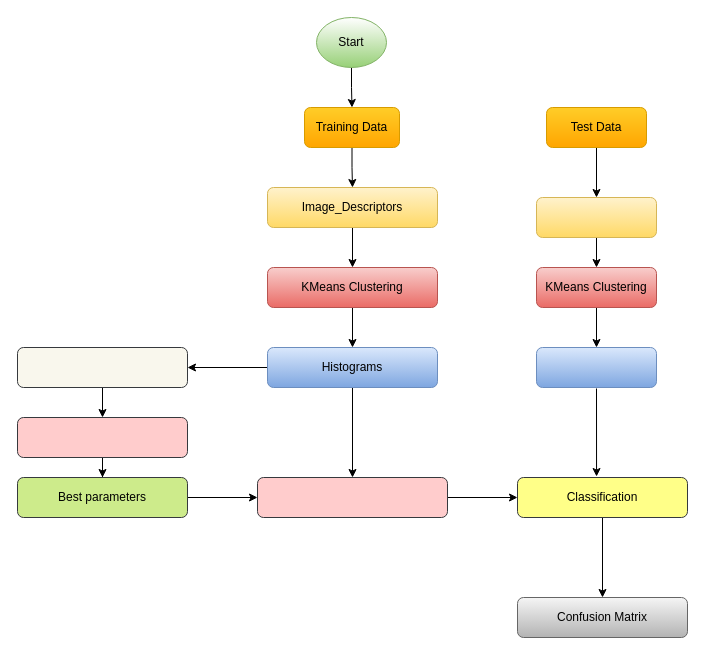
This 705x655 diagram has some shape labels left out. Each missing label, with the centre of its shape:
"Histogram" goes at point (596, 367).
"Image_Descriptor" goes at point (596, 217).
"RandomForest" goes at point (102, 437).
"RandomForest or NaiveBayes" goes at point (352, 497).
"Split(70%train,30%test)" goes at point (102, 367).
